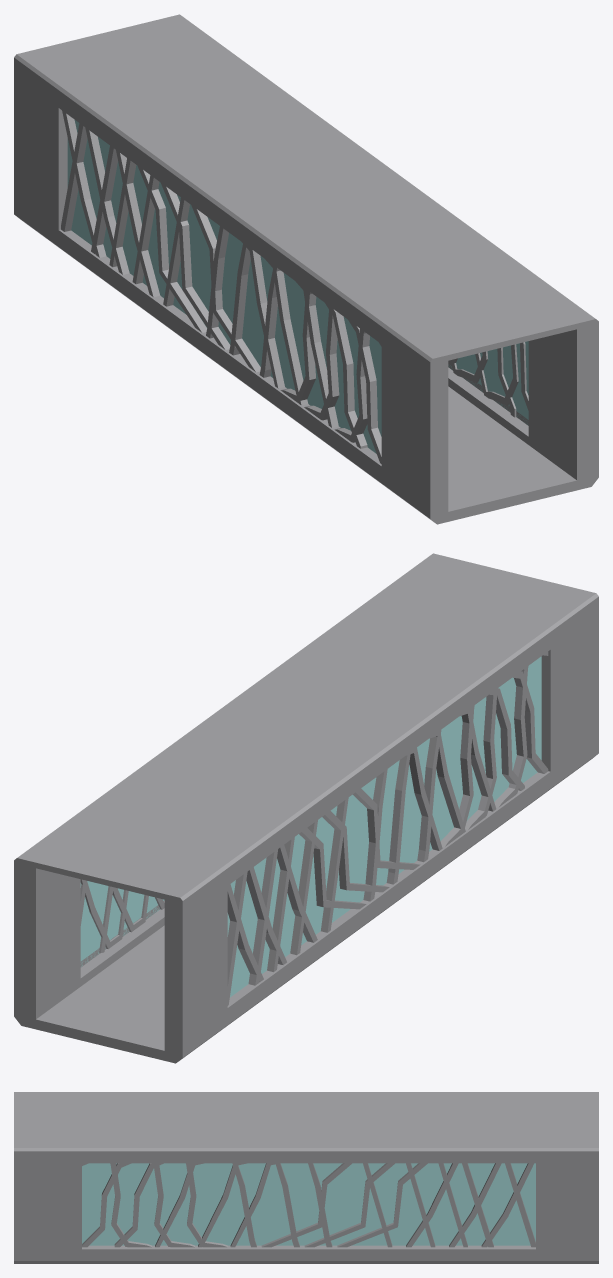
File: Shoppingventer bridge.fbx
3 renders of one model, top to bottom at view 1: azimuth 30°, elevation 25°; view 2: azimuth 150°, elevation 25°; view 3: azimuth 270°, elevation 25°, orthographic. The views are drawn at different scales.
Parts seen in each view (by area): view 1: Cube; view 2: Cube; view 3: Cube.
Part boxes in pixels (box(x1,y1,x2,y2)): Cube: box(14, 14, 598, 524); Cube: box(14, 553, 598, 1063); Cube: box(14, 1092, 598, 1263).
Bounding box in the file's own units: 1105 × 1044 × 4720.
